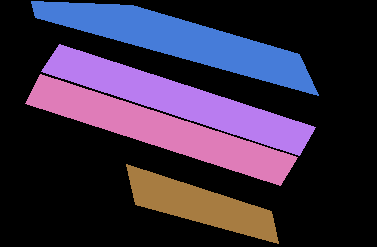parkingspot: (40, 44, 315, 156), (24, 74, 297, 186), (30, 1, 318, 96), (125, 164, 278, 244)
